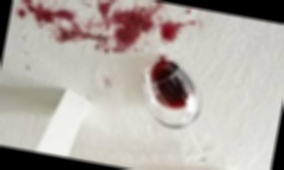wine: (92, 0, 189, 70), (14, 0, 94, 52)
